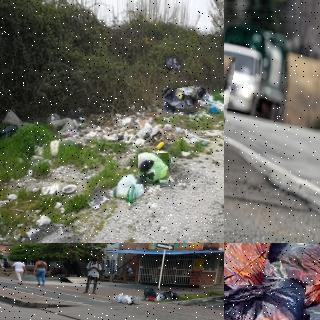Garbage: (224, 243, 320, 294), (262, 243, 320, 320), (224, 281, 313, 320), (265, 286, 320, 320), (224, 243, 315, 260), (137, 152, 170, 185), (163, 87, 199, 114), (185, 84, 209, 102), (112, 293, 133, 306), (144, 287, 159, 298), (165, 292, 173, 300), (157, 293, 165, 300)
